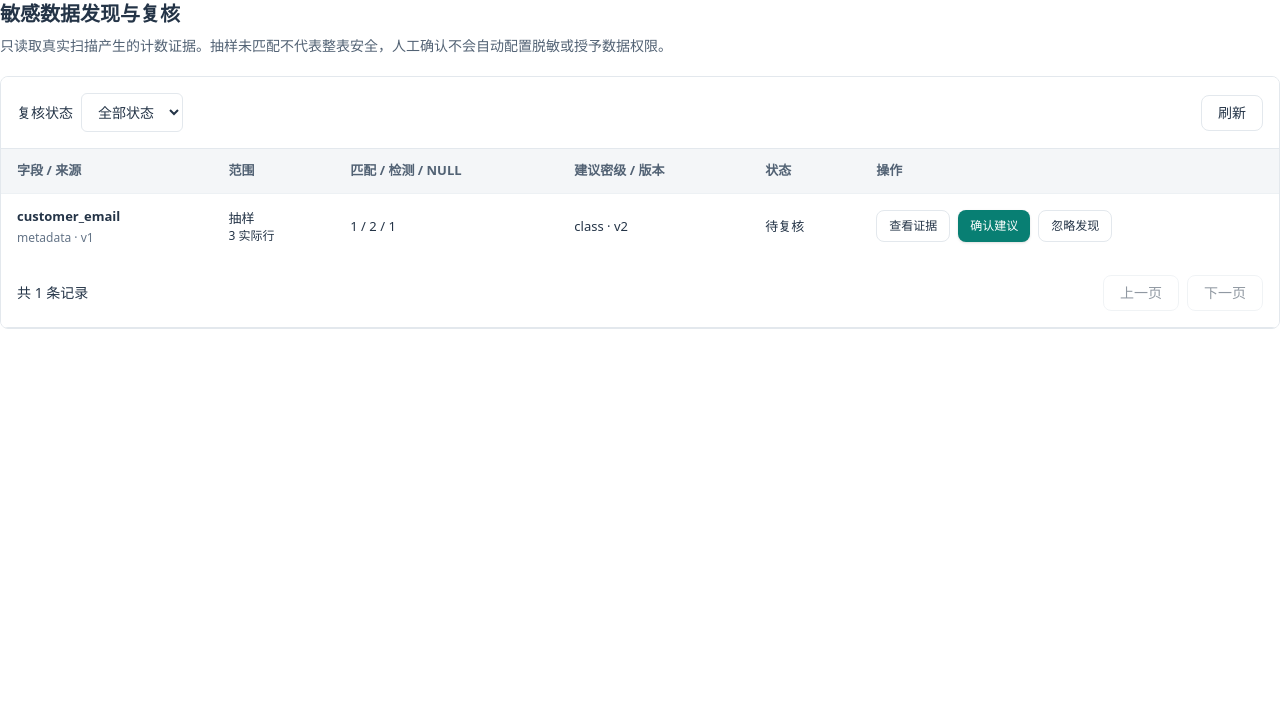
Actual sensitive evidence and CAS review › accepts a real review receipt and refreshes state without inventing classification enforcement
Expected: the text "customer_email" is shown, [17, 206, 120, 224]
Click the button "忽略发现": (1075, 226) [1038, 210, 1112, 242]
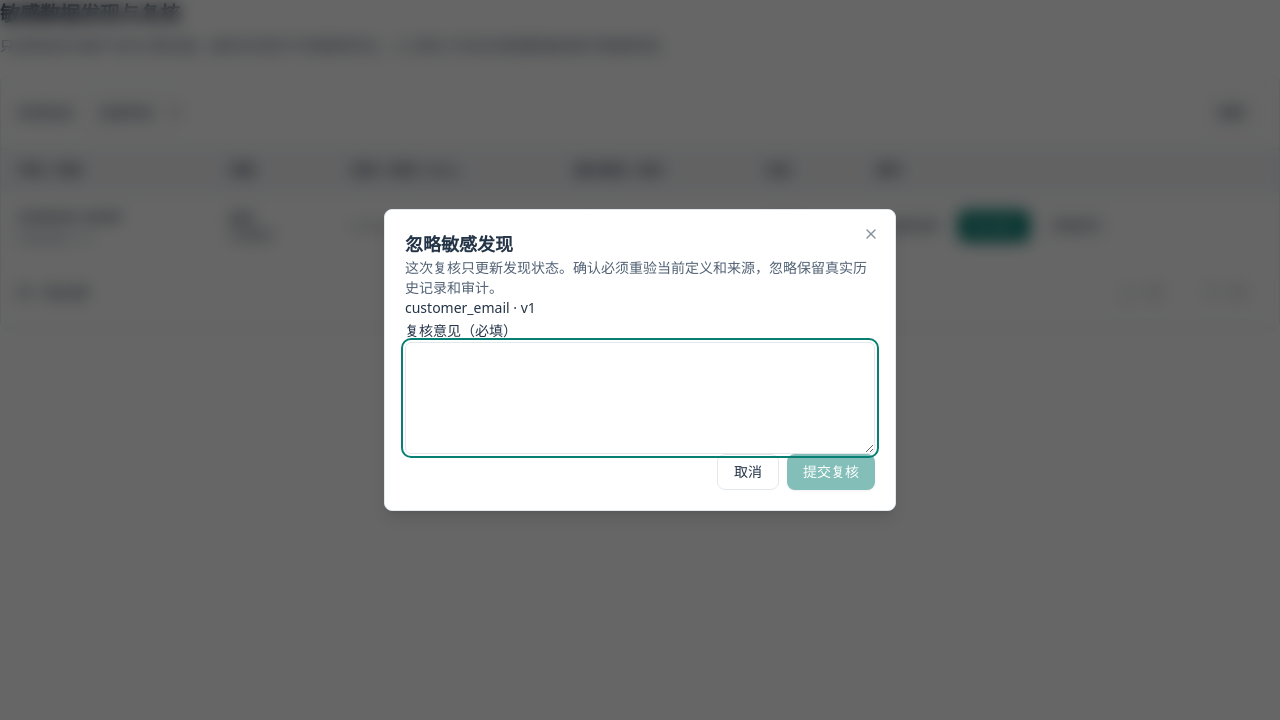
In the text box labelled "复核意见（必填）": (640, 398) [405, 342, 875, 454], type "确认不是当前业务敏感字段"
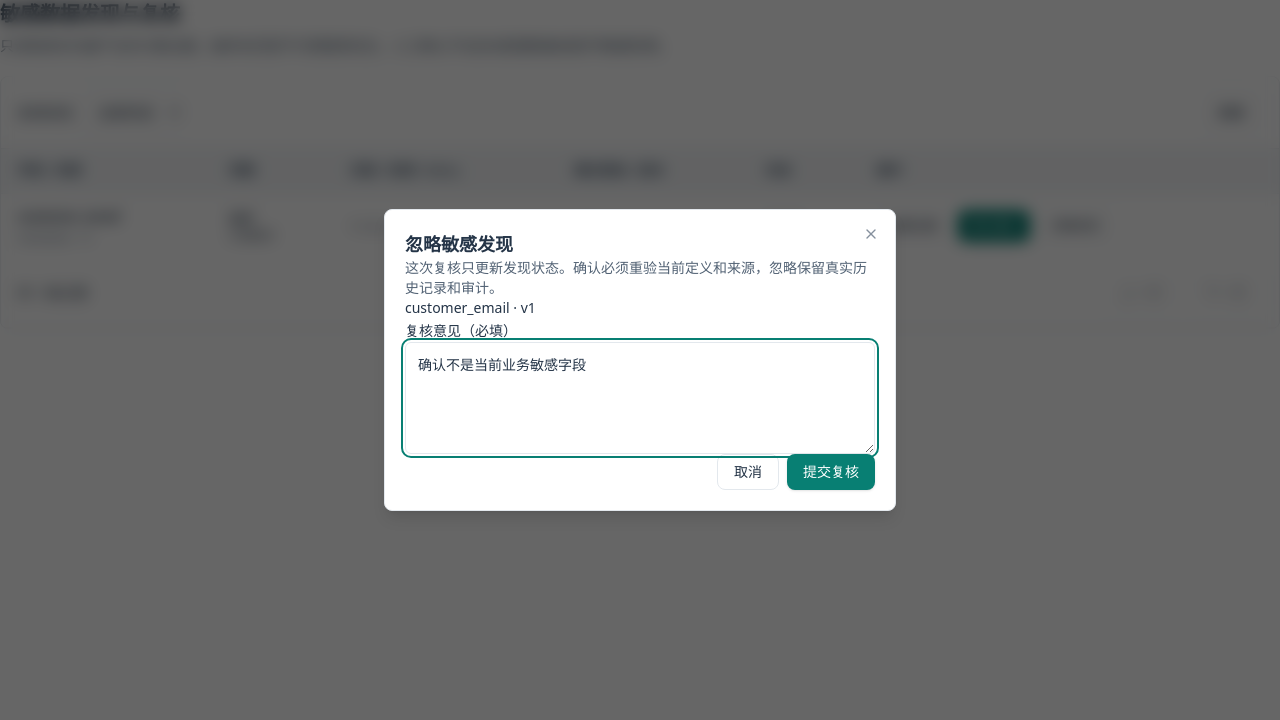
Click the button "提交复核": (831, 472) [787, 454, 875, 490]
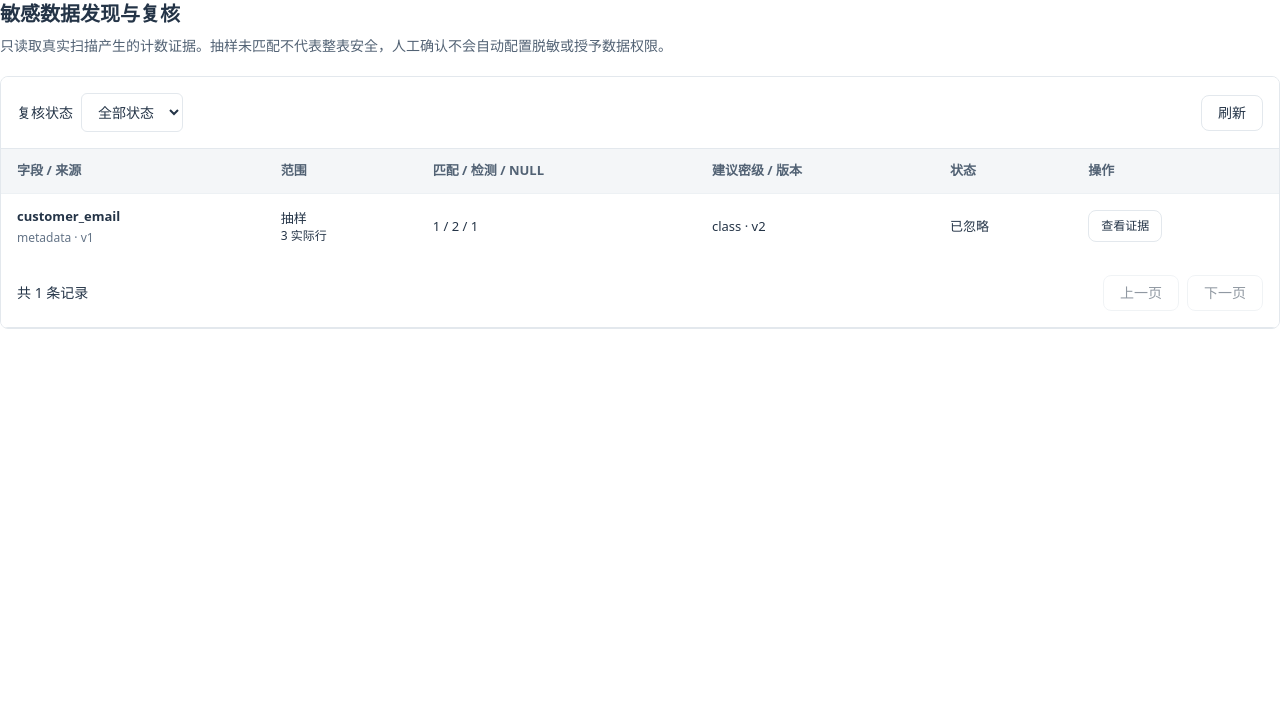
Result: the dialog is gone
Result: the button "确认建议" is gone
